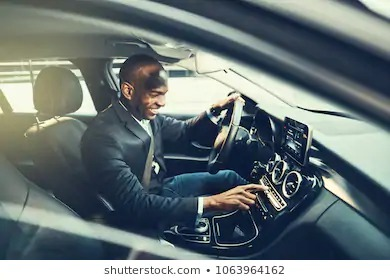F_M_suit jacket: (85, 96, 232, 224)
